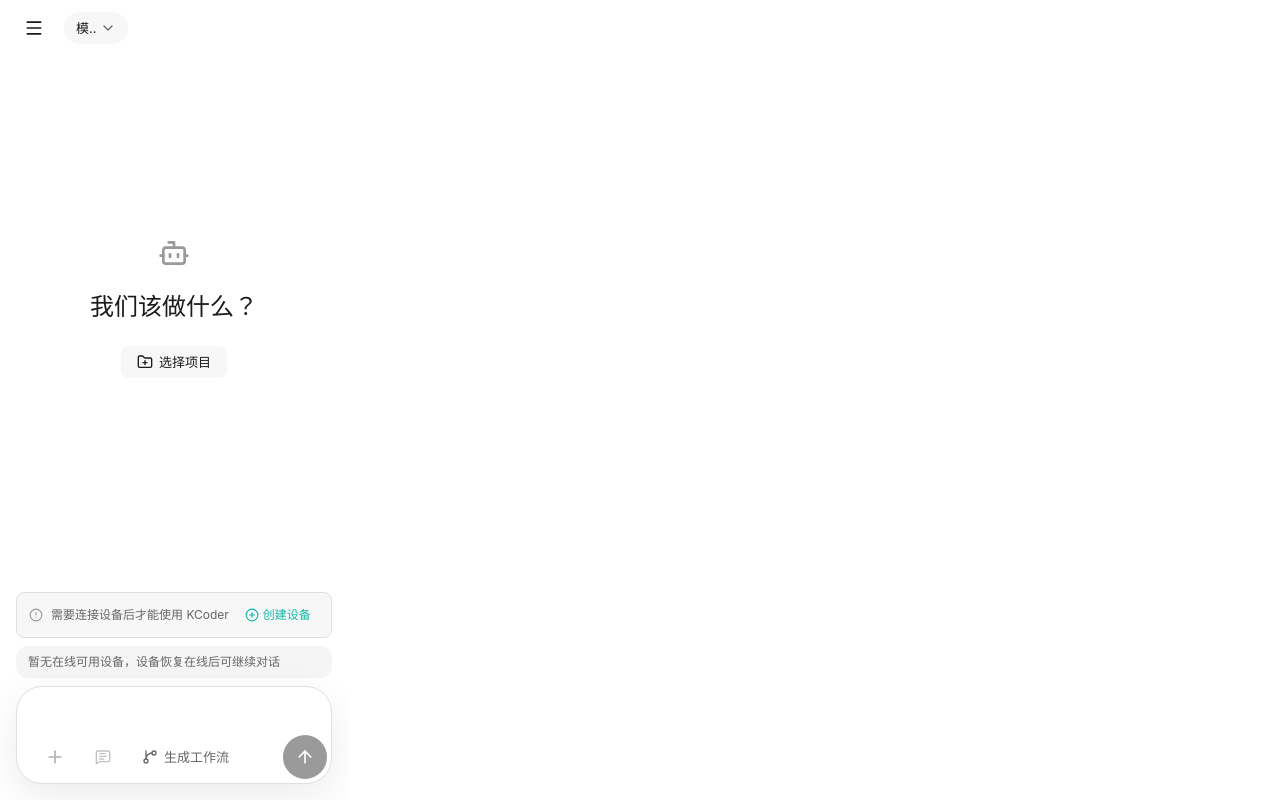
it: MobileWorkbenchLayout › expands mobile project runtime tasks by ten and collapses back to five
Click the button with test id "open-mobile-drawer-button": (34, 28) [12,6,56,50]
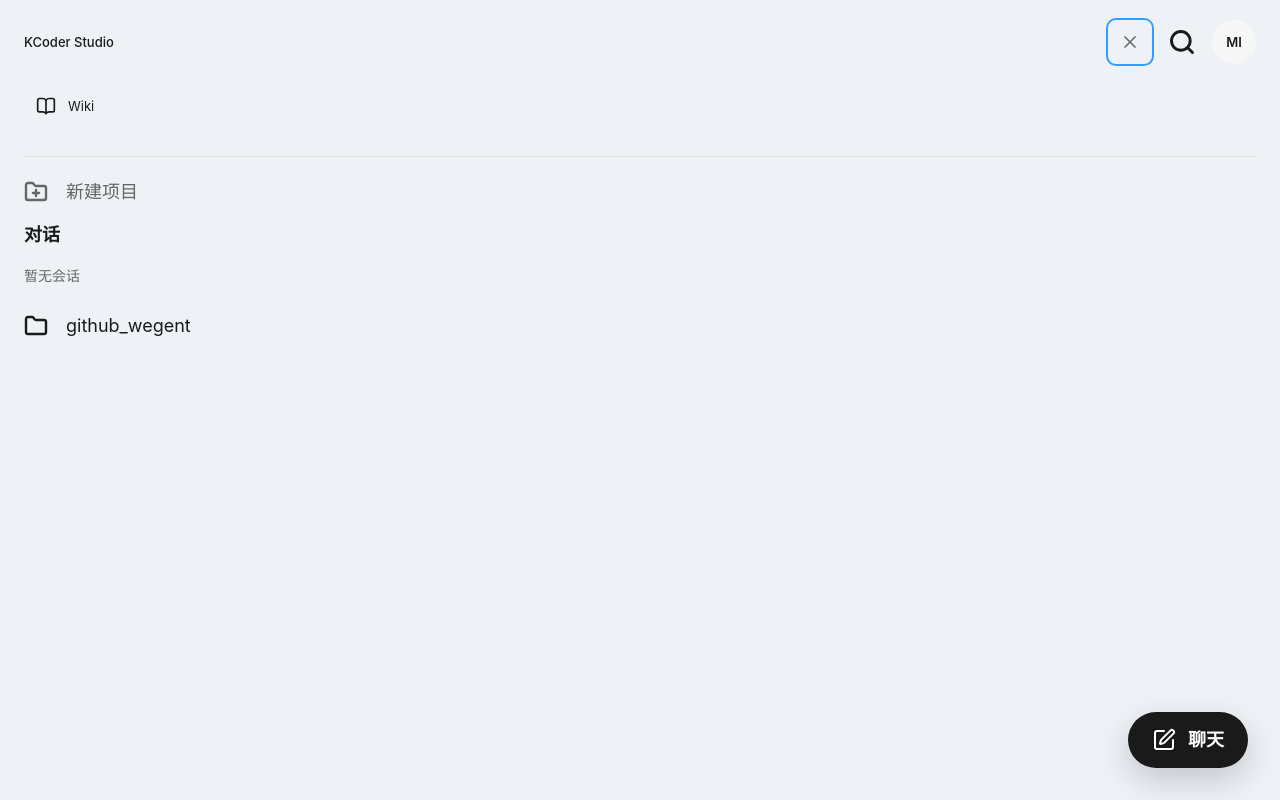
Click the button "github_wegent": (128, 326) [12,299,1268,353]
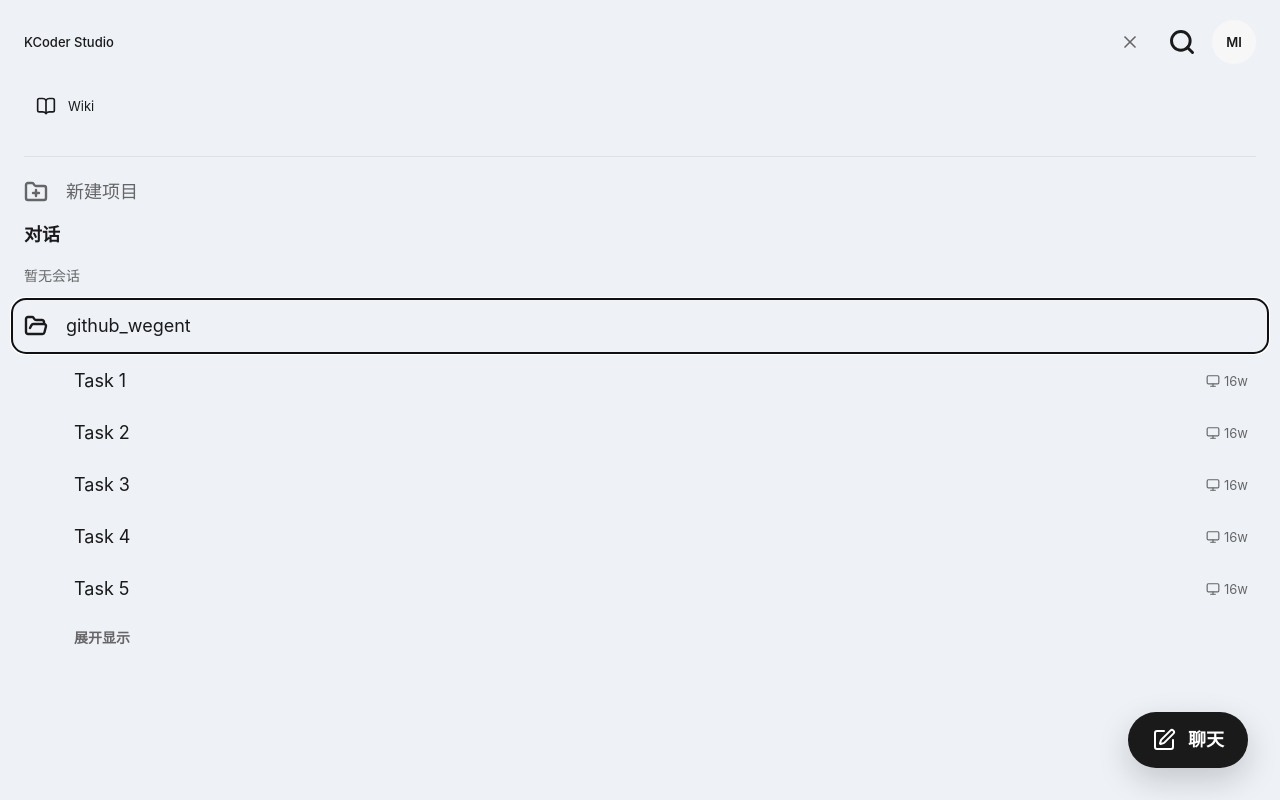
Expected: the number of buttons with test id "mobile-runtime-task-button" is 5, [66,357,1256,405]; [66,409,1256,457]; [66,461,1256,509]; [66,513,1256,561]; [66,565,1256,613]
Click the button with test id "mobile-project-runtime-tasks-expand-1": (102, 637) [66,617,138,657]
(page scrolled)
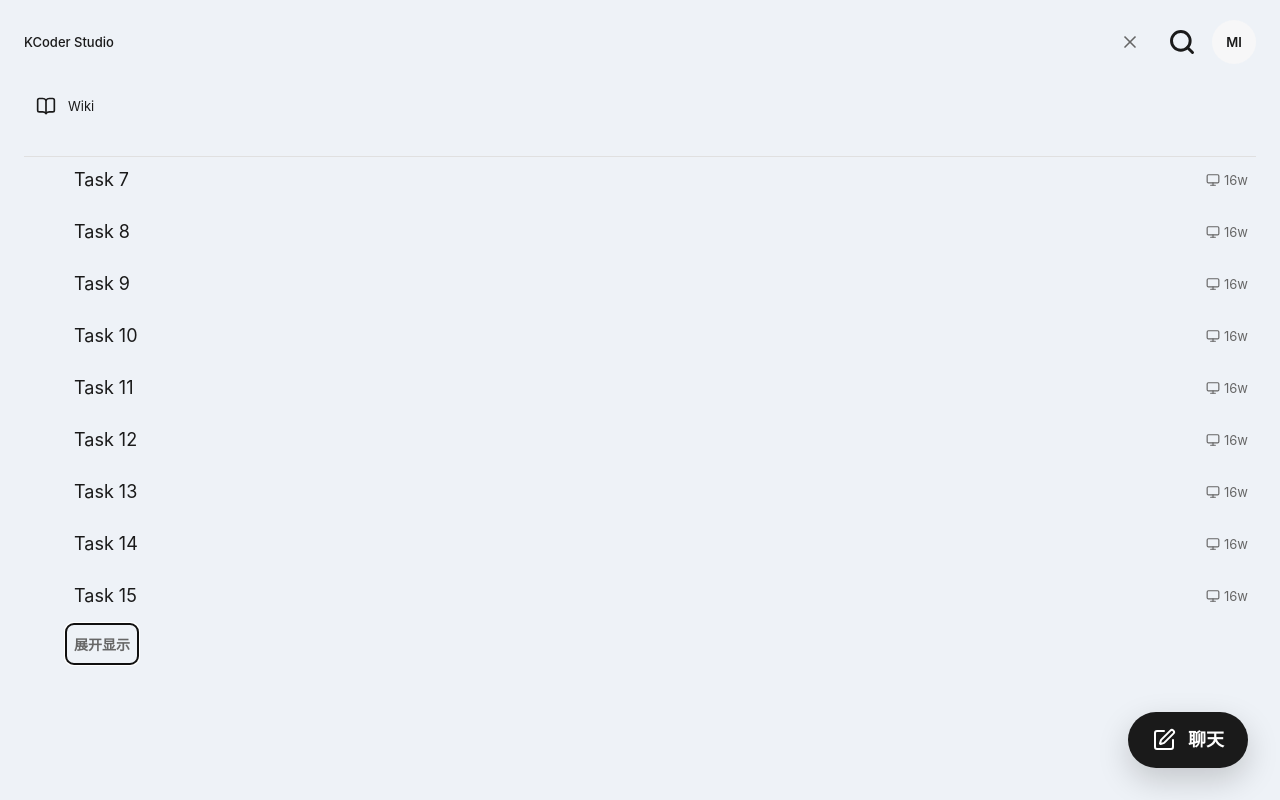
Expected: the button with test id "mobile-project-runtime-tasks-expand-1" reads "展开显示"
Click the button with test id "mobile-project-runtime-tasks-expand-1": (102, 644) [66,624,138,664]
(page scrolled)
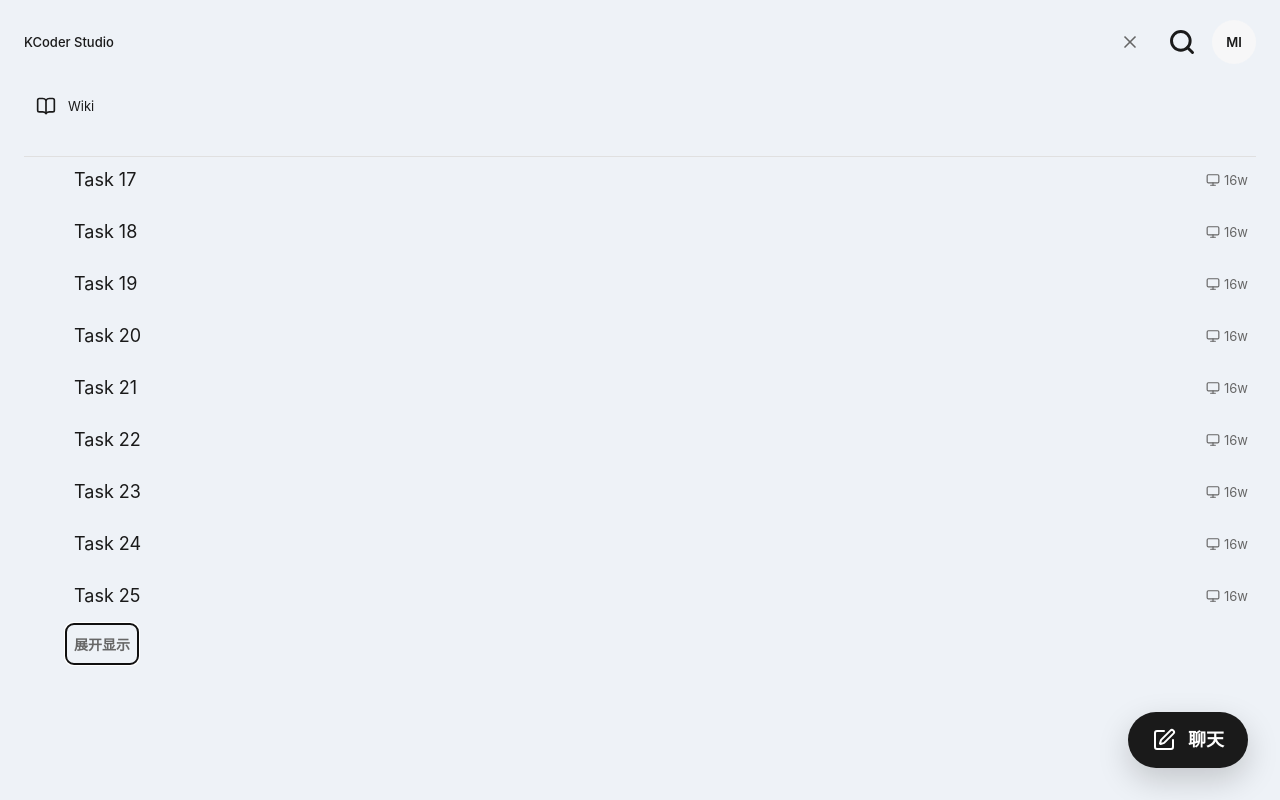
Expected: the button with test id "mobile-project-runtime-tasks-expand-1" is shown
Click the button with test id "mobile-project-runtime-tasks-expand-1": (102, 644) [66,624,138,664]
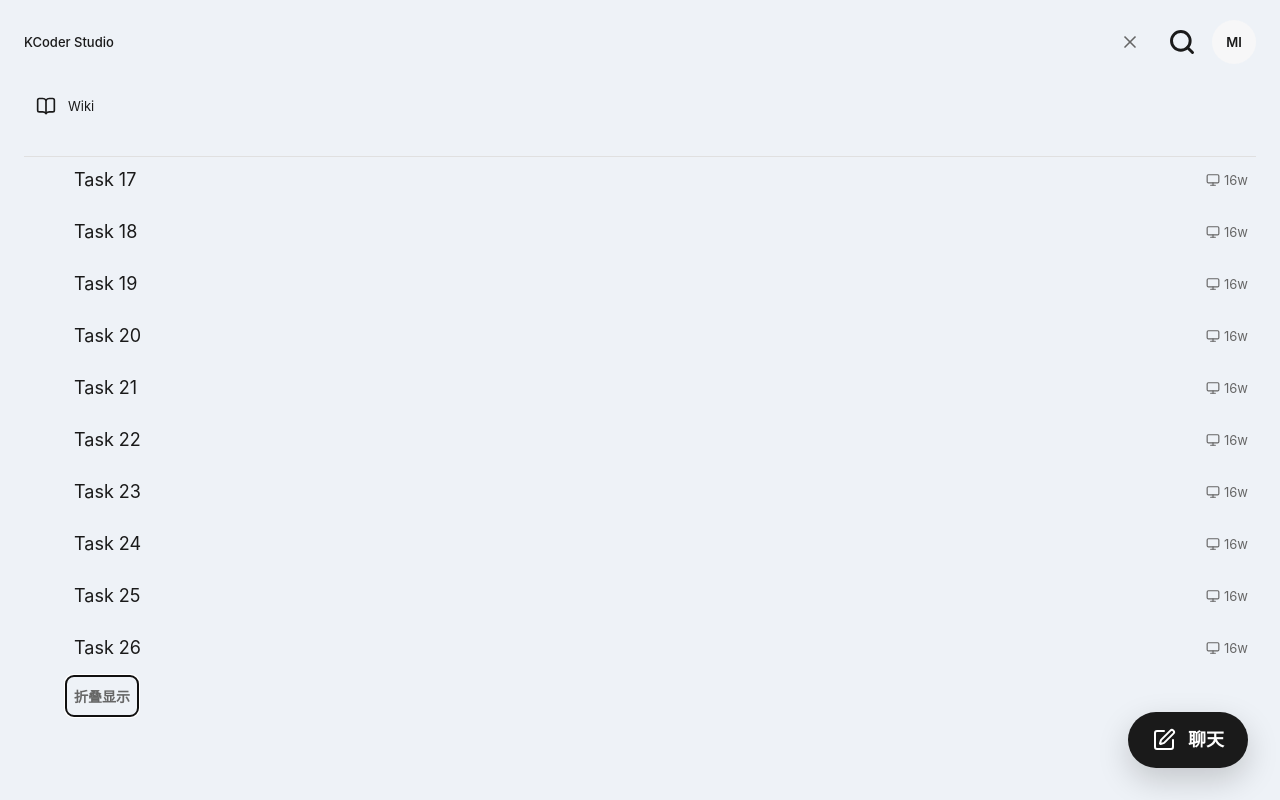
Expected: the button with test id "mobile-project-runtime-tasks-collapse-1" is shown
Click the button with test id "mobile-project-runtime-tasks-collapse-1": (102, 696) [66,676,138,716]
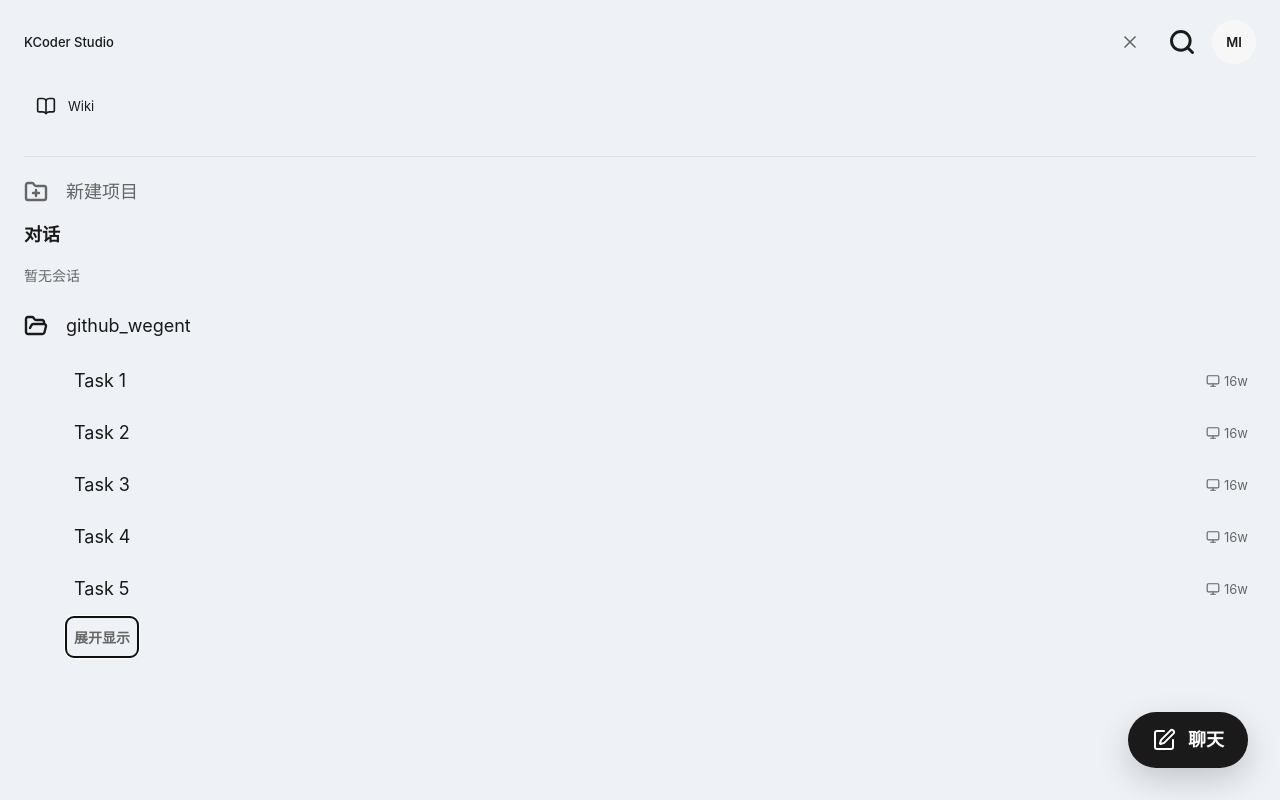
Expected: the number of buttons with test id "mobile-runtime-task-button" is 5, [66,357,1256,405]; [66,409,1256,457]; [66,461,1256,509]; [66,513,1256,561]; [66,565,1256,613]
Expected: the button with test id "mobile-project-runtime-tasks-expand-1" is shown, [66,617,138,657]
